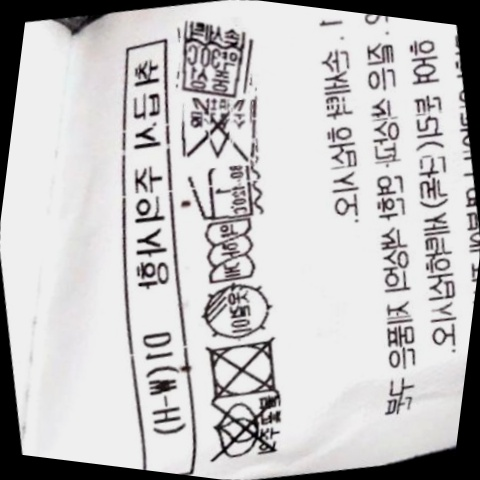DN_tumble_dry: (195, 327, 293, 409)
hand_wash: (168, 16, 261, 103)
iron_low: (185, 155, 265, 229)
line_dry_in_shade: (191, 274, 282, 347)
wring: (197, 213, 266, 291)
